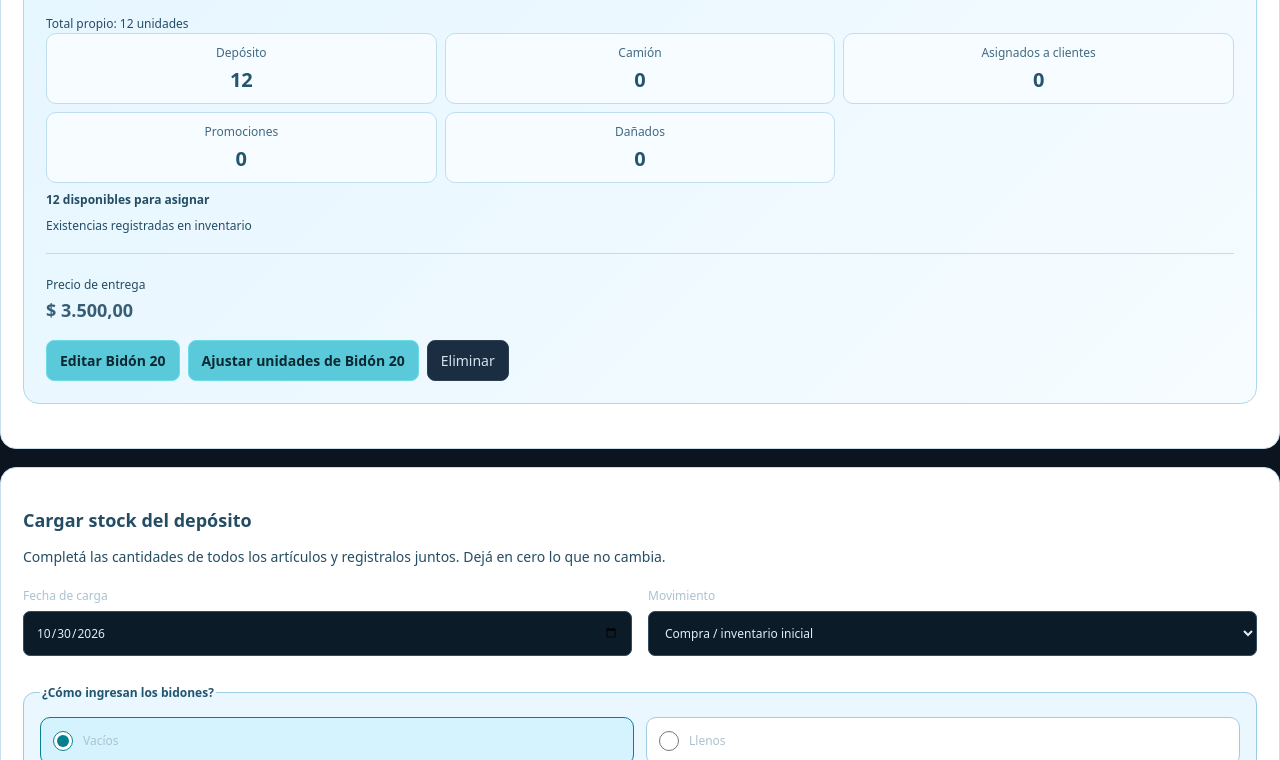
inventario conectado del jefe › elimina un alta equivocada cuando todas las unidades están en depósito
(page scrolled)
Click the button with aria-label "Eliminar Bidón 20": (468, 361) [427,340,509,381]
(page scrolled)
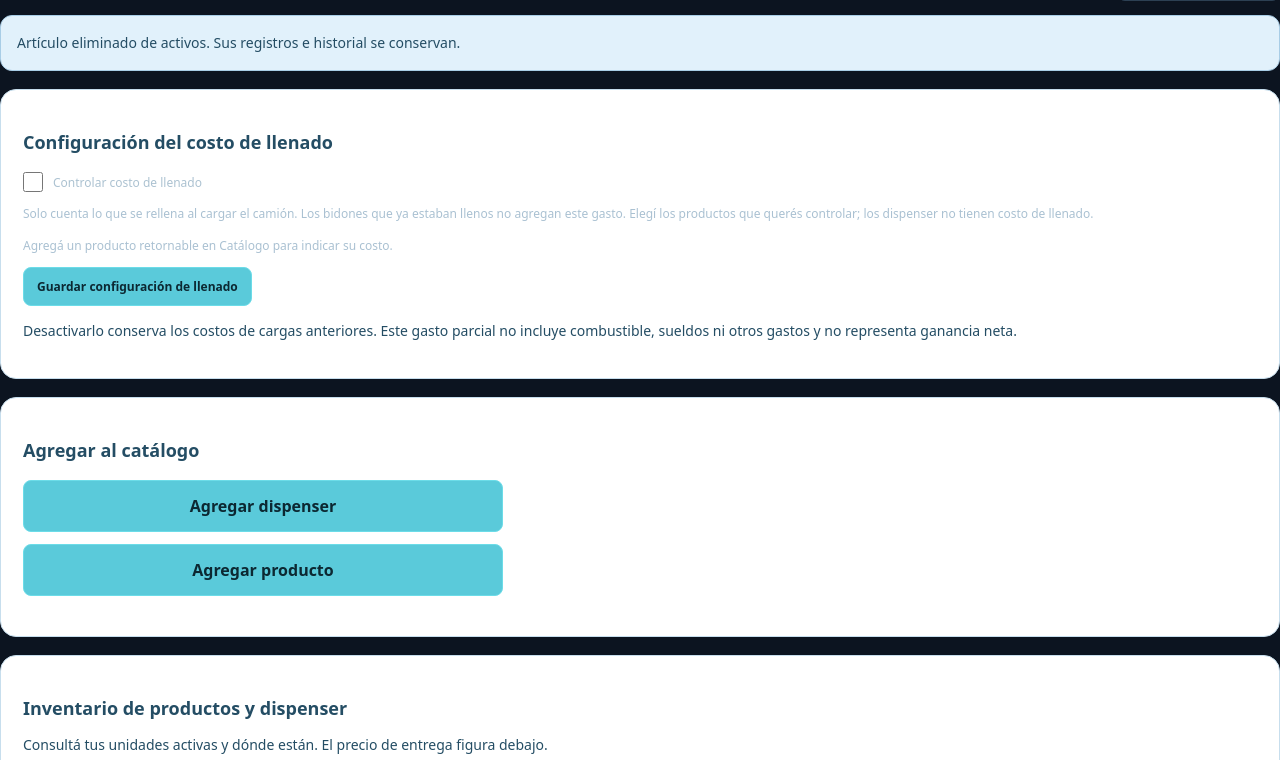
Result: the text "Artículo eliminado de activos. Sus registros e historial se conservan." is shown at [0,15,1279,71]
